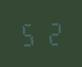five: (19, 20, 40, 47)
two: (41, 19, 62, 46)
